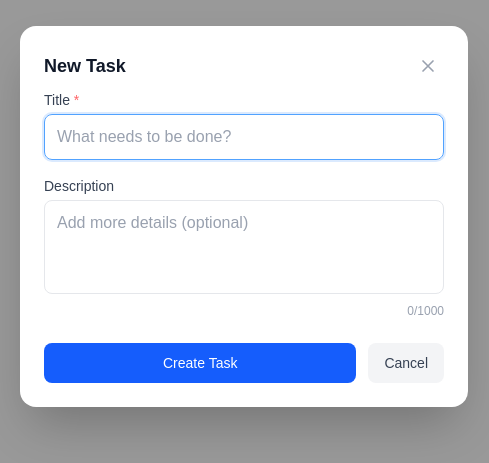
it: TaskModal › should show validation error for empty title
The width and height of the screenshot is (489, 463).
Click the button "Create Task" at (200, 362), box x1=44 y1=342 x2=356 y2=382
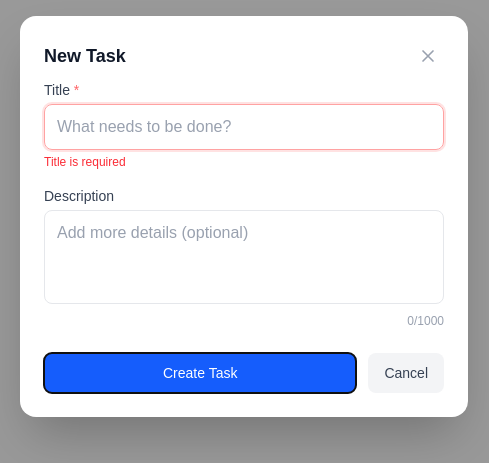
expect the text "Title is required" is shown: met, box x1=44 y1=154 x2=126 y2=168
